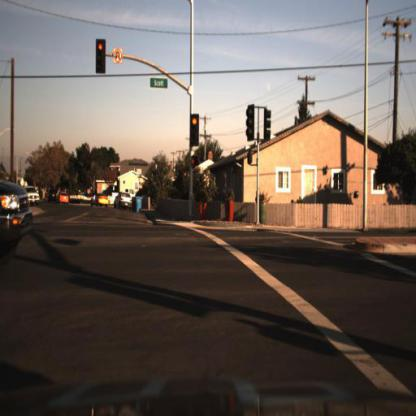car: (1, 164, 33, 257), (114, 190, 136, 214), (22, 184, 43, 209), (113, 188, 133, 211), (90, 189, 111, 210), (91, 190, 112, 211), (45, 187, 59, 208), (56, 192, 69, 210), (57, 191, 70, 206)
trafficLight-Red: (95, 37, 107, 77), (189, 114, 201, 150)
